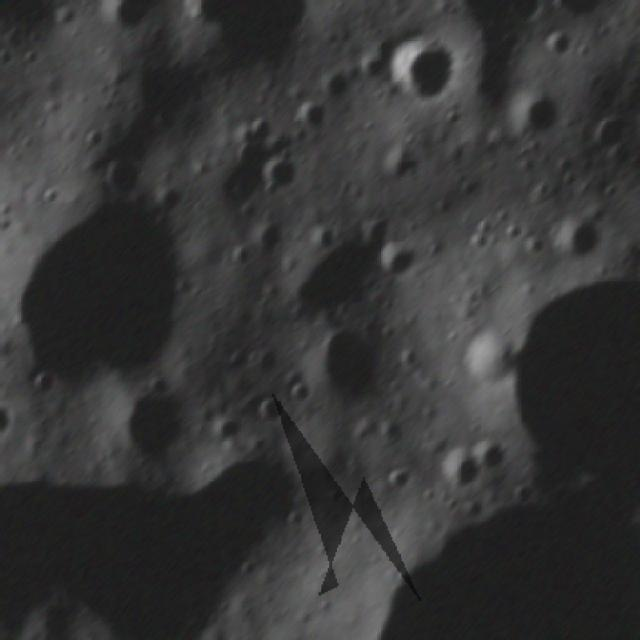crater: (7, 212, 184, 380), (504, 283, 640, 491), (298, 326, 380, 400), (386, 37, 452, 106), (511, 87, 558, 148), (545, 217, 607, 261), (88, 0, 150, 37), (255, 152, 300, 198), (374, 244, 424, 284), (0, 393, 34, 449), (440, 447, 471, 493), (248, 396, 286, 426), (378, 462, 412, 495), (478, 434, 502, 477), (627, 251, 640, 290)
